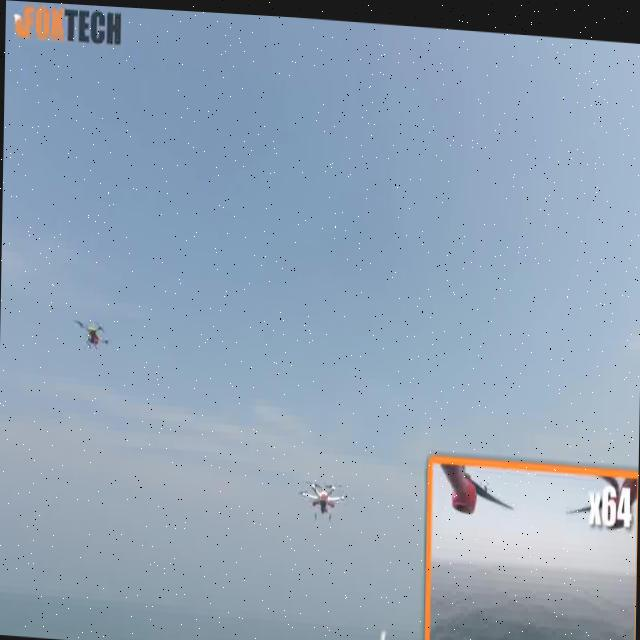drone: (61, 298, 118, 374)
